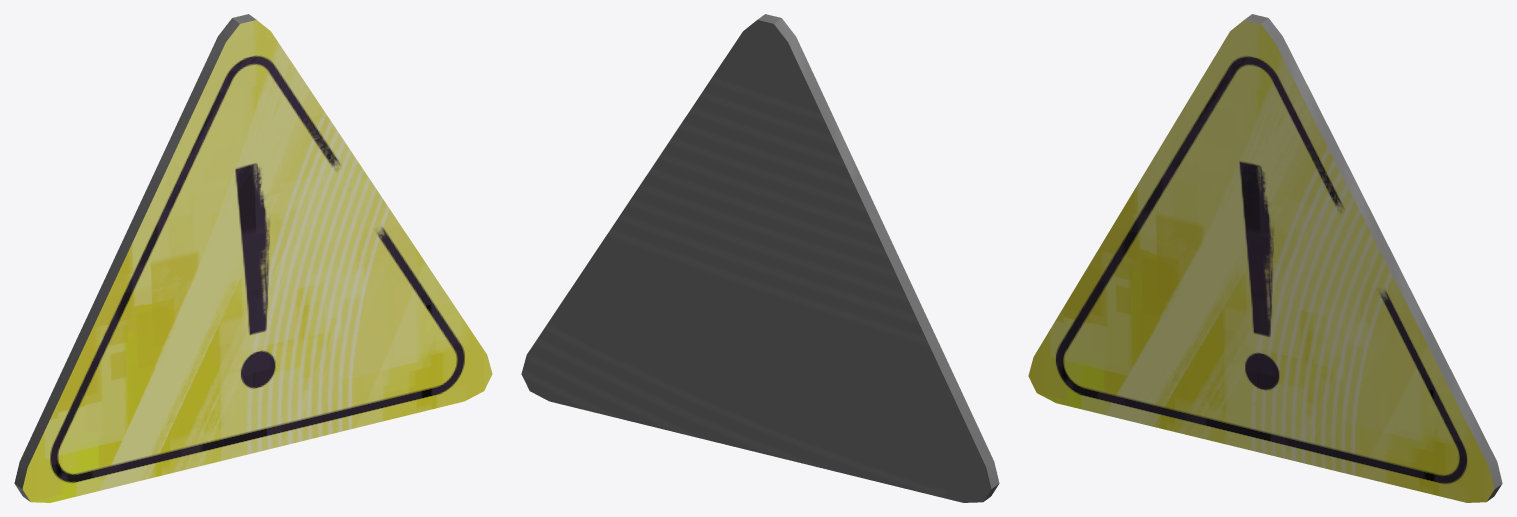
The model's file is SM_Panneau_04.fbx.
3 views of the same model, side by side, from view 1: azimuth 30°, elevation 25°; view 2: azimuth 150°, elevation 25°; view 3: azimuth 330°, elevation 25° (orthographic).
Visible parts, largest first — view 1: SM_Panneau_04; view 2: SM_Panneau_04; view 3: SM_Panneau_04.
Part boxes in pixels (box(x1,y1,x2,y2)): SM_Panneau_04: box(14, 14, 492, 502); SM_Panneau_04: box(521, 14, 999, 502); SM_Panneau_04: box(1028, 14, 1502, 502).
Size of the model in its own units: 0.5158 by 0.4538 by 0.0152.
